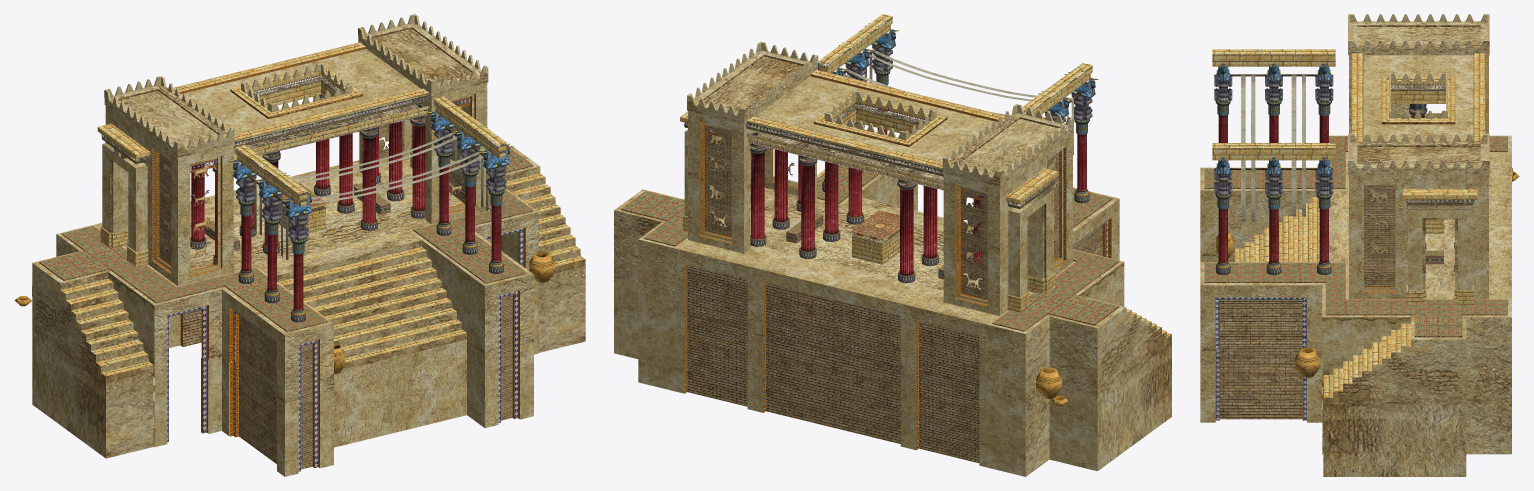
3 renders of one model, left to right at view 1: azimuth 30°, elevation 25°; view 2: azimuth 150°, elevation 25°; view 3: azimuth 270°, elevation 25°, orthographic. The views are drawn at different scales.
Visible parts, largest first — view 1: palace; view 2: palace; view 3: palace.
Boxes of the visible parts, <box> form: palace: <box>14,14,585,476</box>; palace: <box>614,14,1171,476</box>; palace: <box>1200,14,1519,476</box>.
Size of the model in its own units: 38.77 by 23.08 by 22.03.
Materials: 1 (1 with a texture image).
